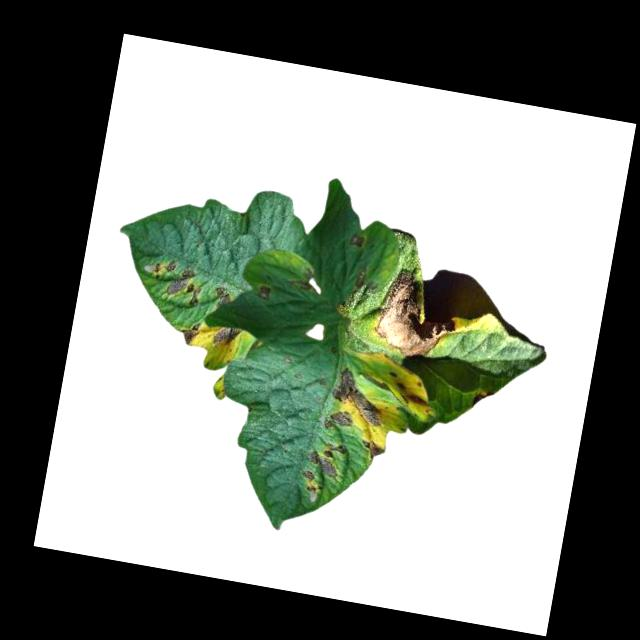Early_blight: (371, 268, 463, 366), (326, 364, 389, 429), (296, 437, 348, 506), (141, 255, 206, 309), (384, 369, 433, 410), (210, 323, 245, 351), (321, 408, 352, 433), (357, 437, 387, 462), (178, 319, 202, 347), (212, 286, 233, 309), (254, 282, 273, 305), (472, 391, 489, 414), (346, 233, 364, 251)
